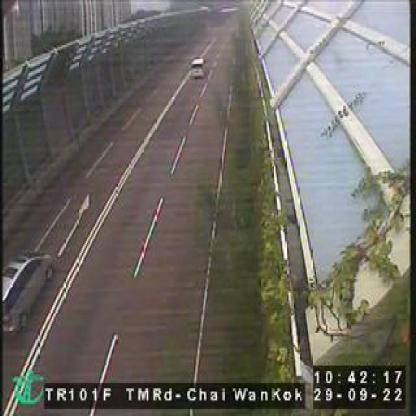Car: (0, 251, 52, 340), (188, 55, 208, 78)
